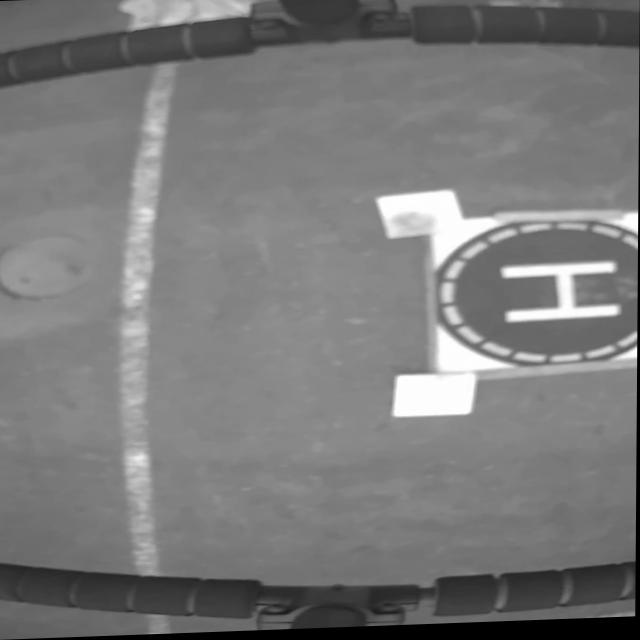Helipad: (501, 265, 622, 326)
